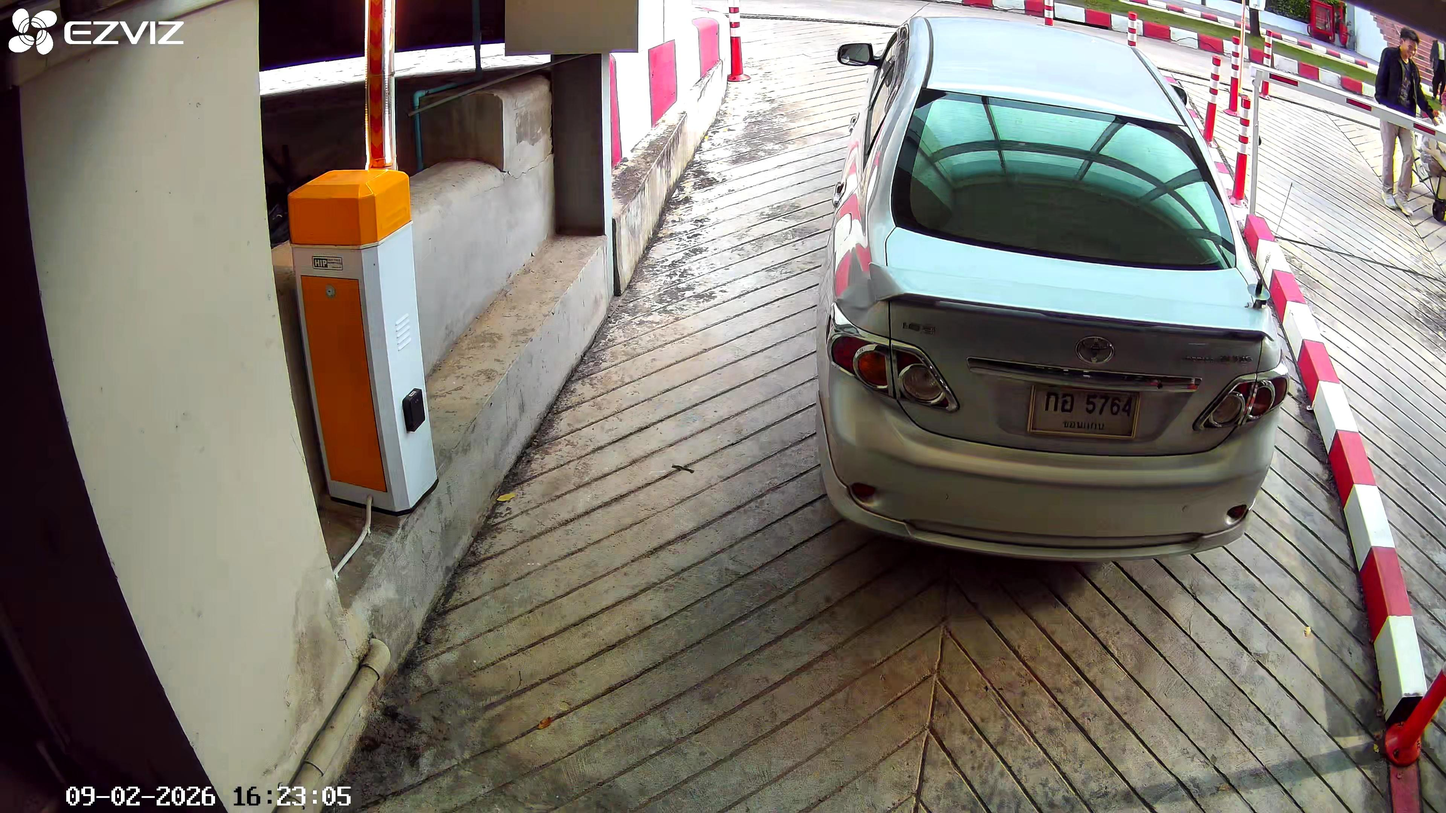car: (817, 9, 1293, 568)
license-plate: (1022, 382, 1141, 439)
